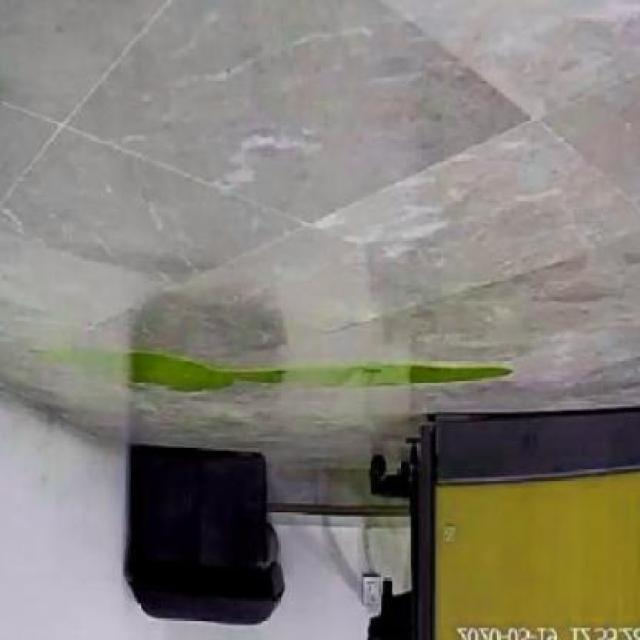spillage: (133, 356, 512, 387)
